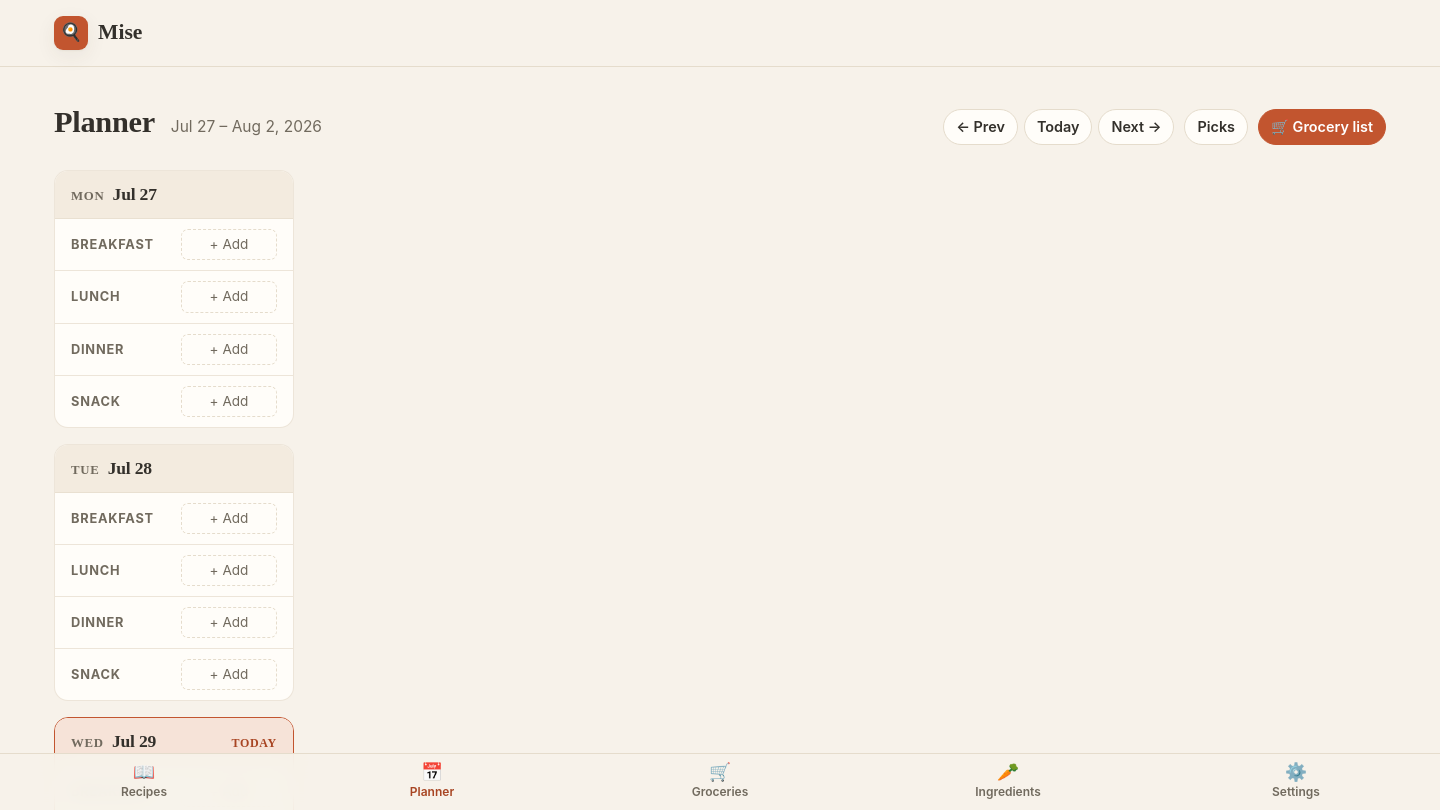
Test: PlannerPage › below the width the week grid needs › scrolls to today again when Today brings back the current week
Expected: the text "Jul 27 – Aug 2, 2026" is shown, [171,115,322,139]
Click the button with aria-label "Next week".
click(1136, 127)  # box [1098,109,1174,145]
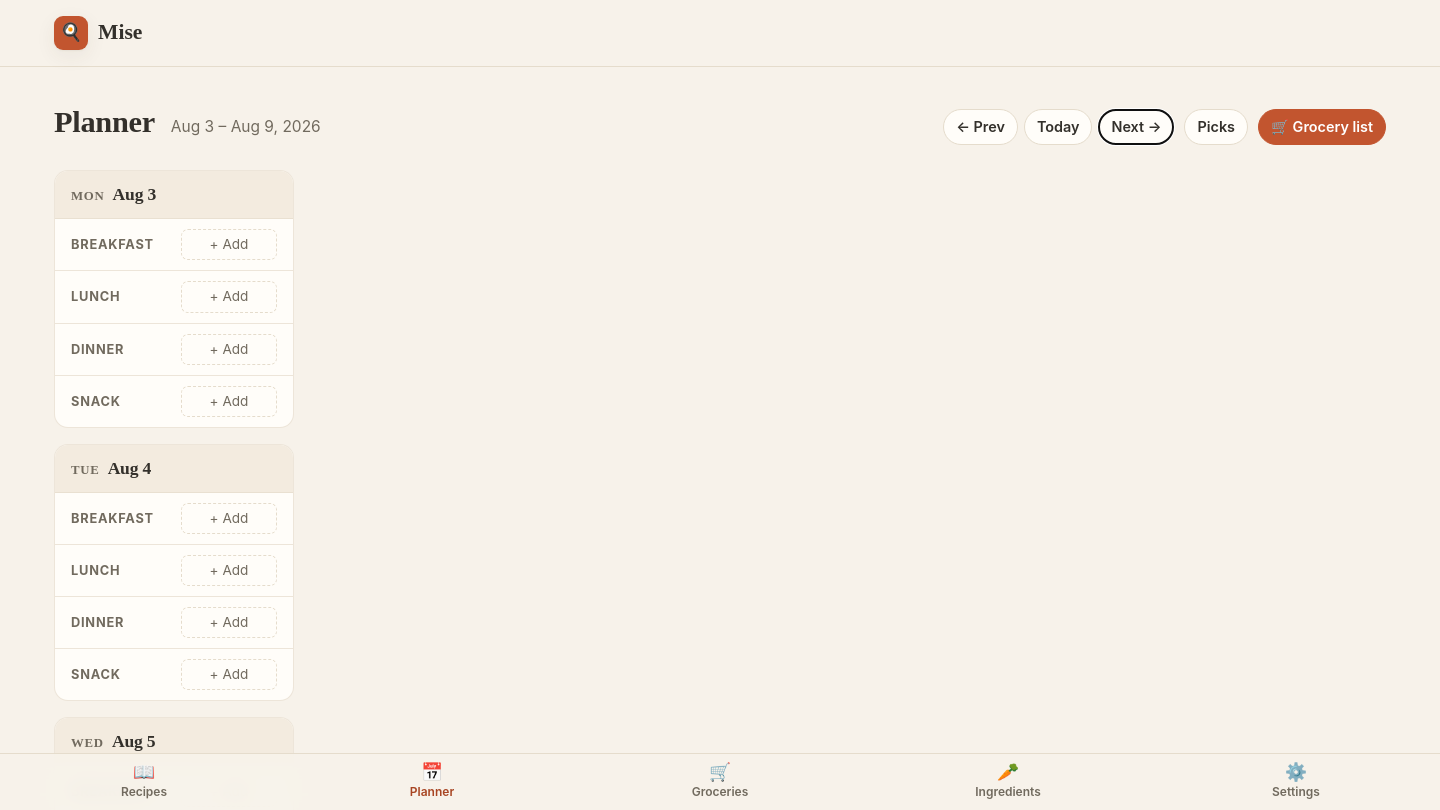
Expected: the text "Aug 3 – Aug 9, 2026" is shown, [171,115,321,139]
Click the button "Today".
click(1058, 127)  # box [1024,109,1092,145]
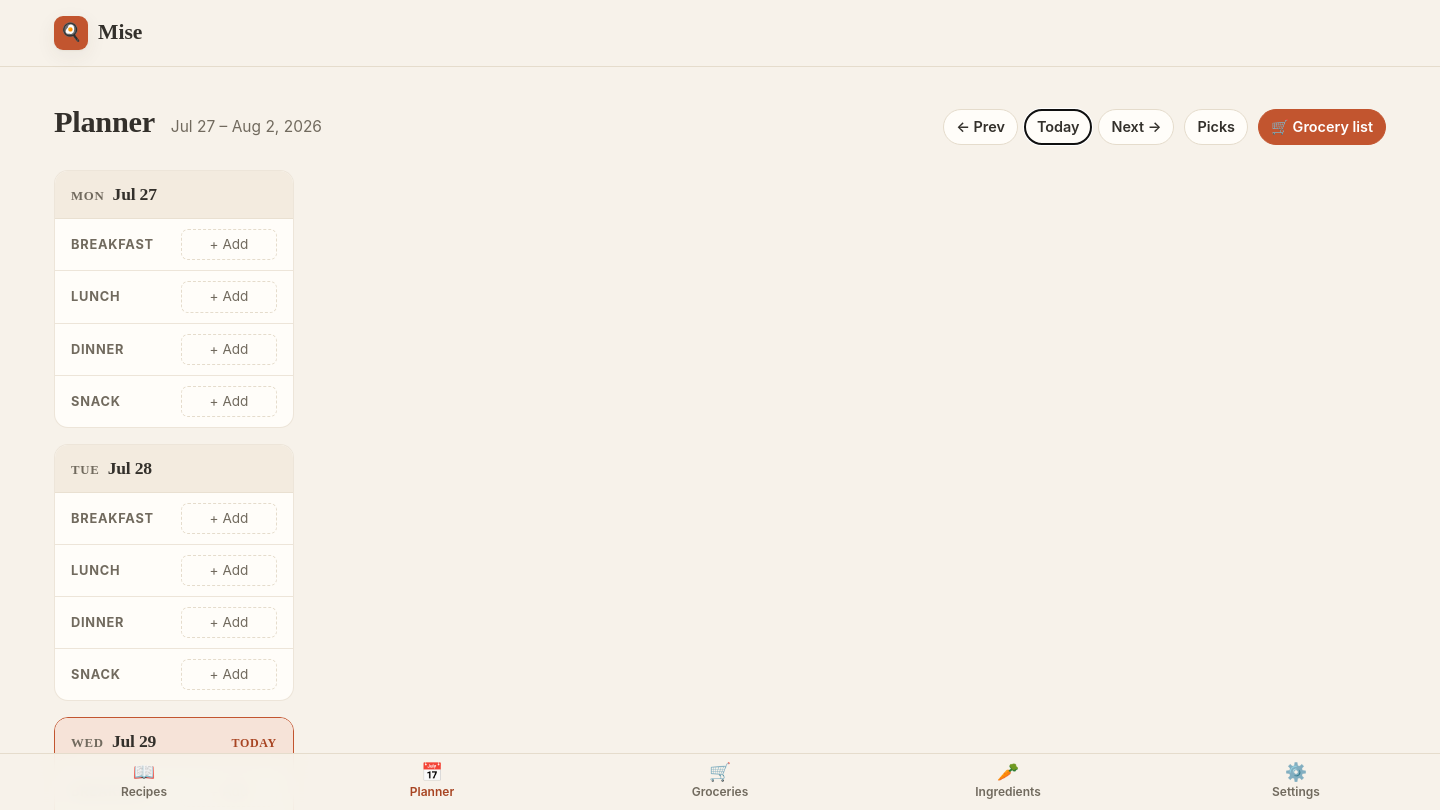
Expected: the text "Jul 27 – Aug 2, 2026" is shown, [171,115,322,139]
